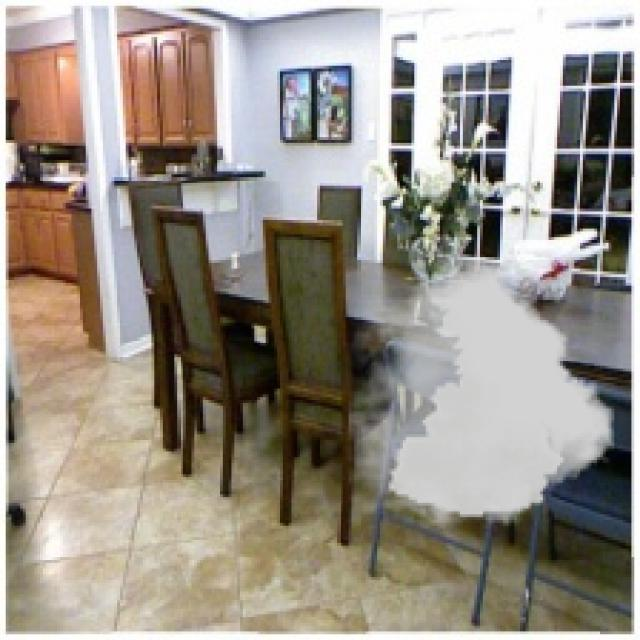smoke: (349, 257, 614, 529)
